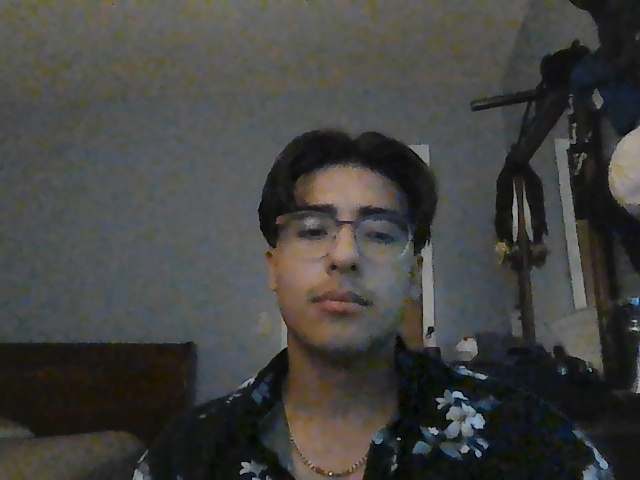person: (260, 127, 431, 358)
